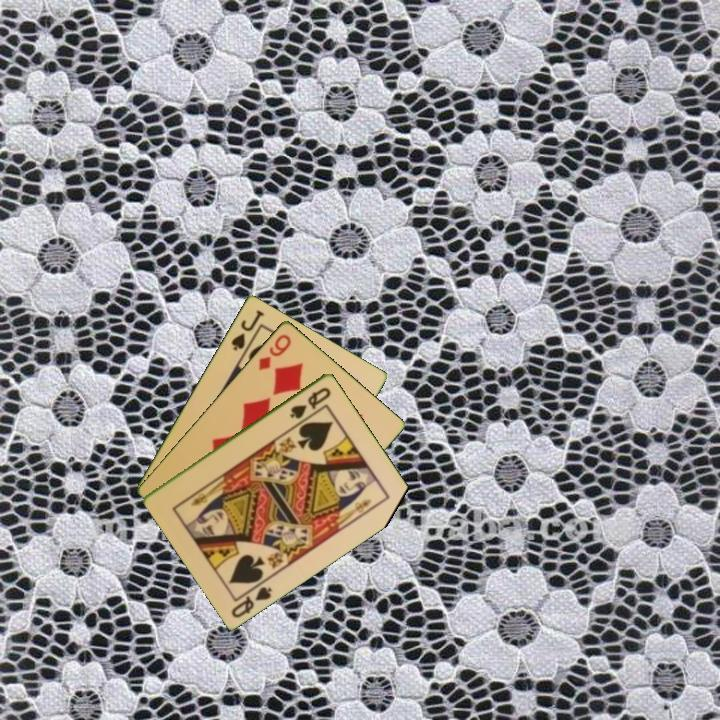9d: (255, 330, 294, 373)
Js: (228, 306, 267, 353)
Qs: (228, 582, 275, 621), (286, 383, 334, 421)
